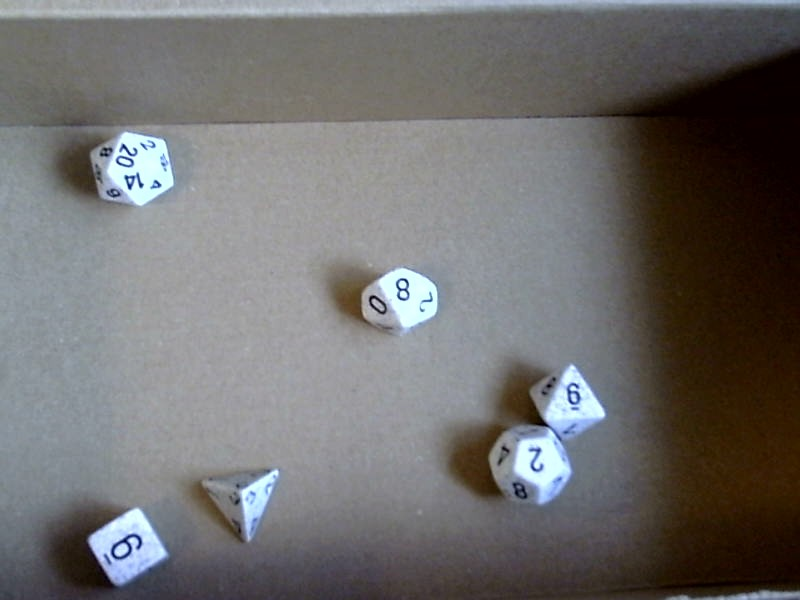d10 8: (358, 264, 444, 342)
d12 2: (473, 425, 571, 509)
d20 20: (79, 124, 179, 216)
d4 3: (196, 457, 286, 556)
d6 6: (79, 500, 173, 595)
d8 6: (524, 347, 622, 440)
